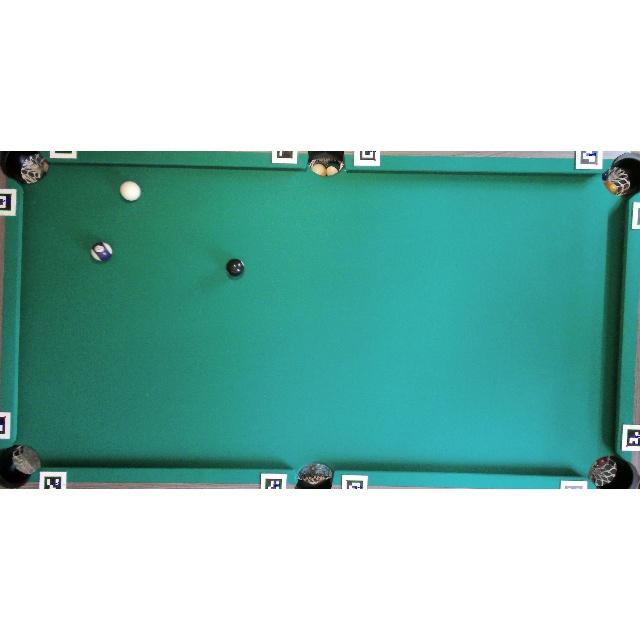cue ball: (118, 180, 142, 202)
other: (90, 241, 114, 264), (226, 258, 244, 277)
